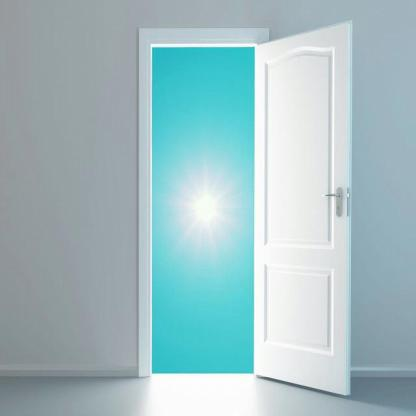door: (129, 14, 359, 403)
